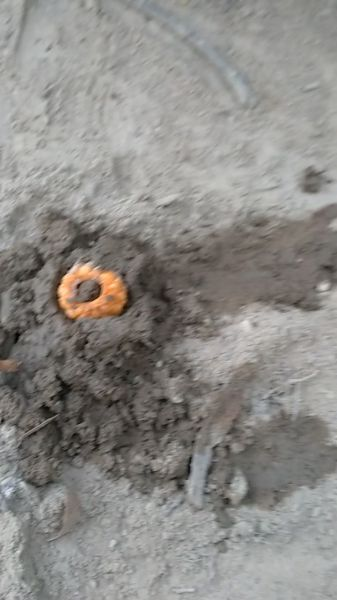eggs: (54, 261, 130, 324)
